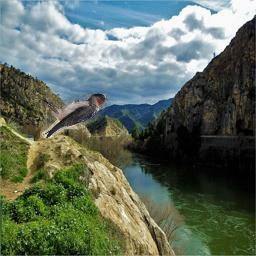Swallow: (40, 93, 110, 138)
